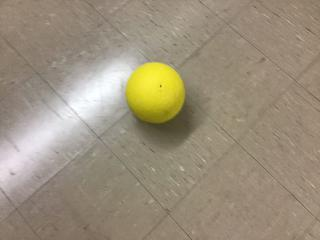power_cell: (122, 57, 197, 127)
